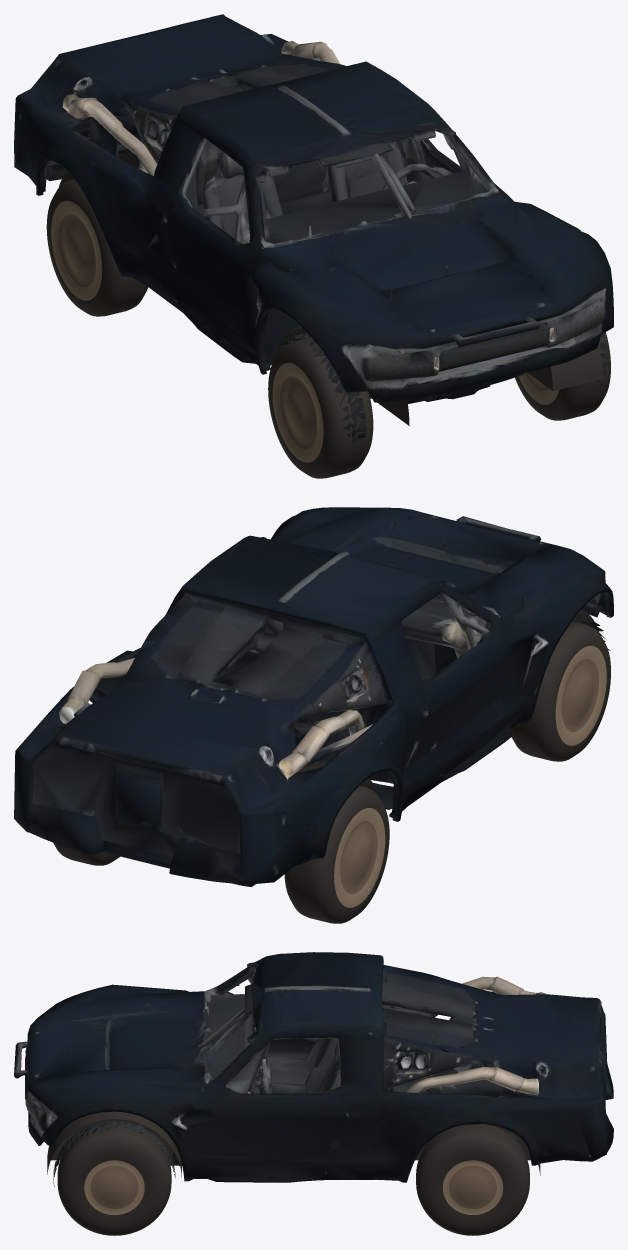
File: VEH_M_BlackRaceTruck_Drive.glb
3 renders of one model, top to bottom at view 1: azimuth 30°, elevation 25°; view 2: azimuth 150°, elevation 25°; view 3: azimuth 270°, elevation 25°, orthographic. The views are drawn at different scales.
Parts seen in each view (by area): view 1: VEH_M_BlackRaceTruck, Wheel_FR, Wheel_RR, Wheel_FL, Liner_Wheel_FL; view 2: VEH_M_BlackRaceTruck, Wheel_RR, Wheel_FR, Wheel_RL; view 3: VEH_M_BlackRaceTruck, Wheel_RL, Wheel_FL, Liner_Wheel_FL.
Boxes of the visible parts, x1,y1,x2,y2 form: VEH_M_BlackRaceTruck: [14, 14, 613, 443]; Wheel_FR: [268, 337, 373, 478]; Wheel_RR: [46, 179, 148, 316]; Wheel_FL: [515, 332, 610, 420]; Liner_Wheel_FL: [527, 344, 602, 390]; VEH_M_BlackRaceTruck: [14, 507, 613, 886]; Wheel_RR: [284, 785, 389, 923]; Wheel_FR: [511, 621, 610, 761]; Wheel_RL: [53, 843, 120, 865]; VEH_M_BlackRaceTruck: [14, 952, 613, 1186]; Wheel_RL: [416, 1124, 529, 1235]; Wheel_FL: [57, 1122, 171, 1235]; Liner_Wheel_FL: [47, 1111, 181, 1177].
Bounding box in the file's own units: 2.36 × 1.78 × 4.9.
4 materials, 1 textured.
